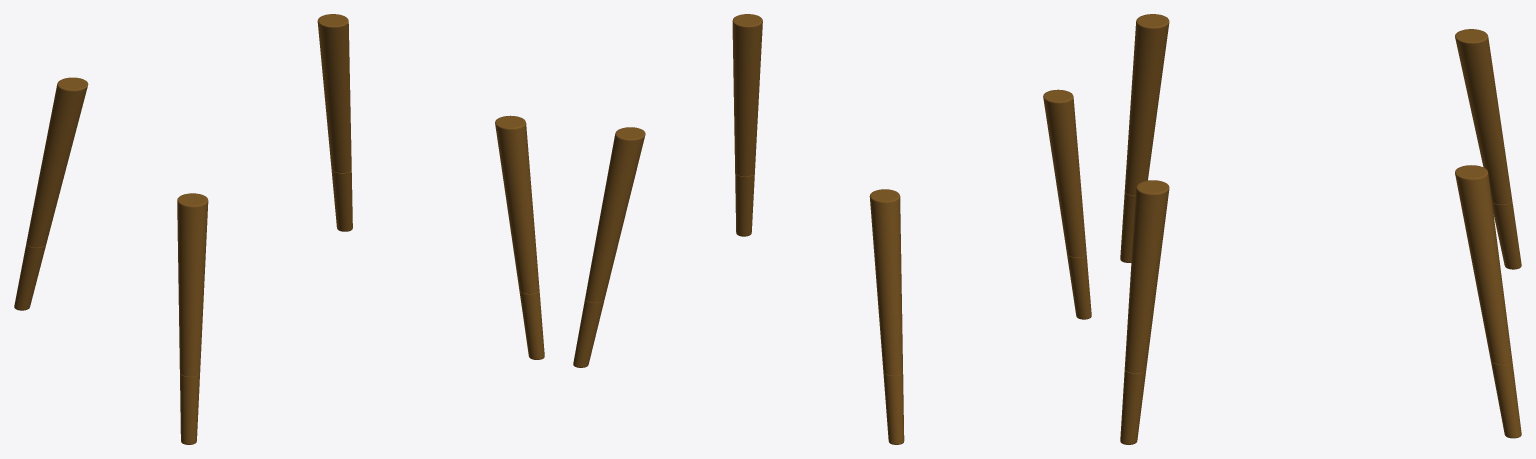
The model's file is Carera01.glb.
3 views of the same model, side by side, from view 1: azimuth 30°, elevation 25°; view 2: azimuth 150°, elevation 25°; view 3: azimuth 270°, elevation 25° (orthographic). The views are drawn at different scales.
Parts seen in each view (by area): view 1: Capri Chair - Wood Leg, Capri Chair - Metal Leg; view 2: Capri Chair - Wood Leg, Capri Chair - Metal Leg; view 3: Capri Chair - Wood Leg, Capri Chair - Metal Leg.
Part boxes in pixels (x1=…): Capri Chair - Wood Leg: x1=26, y1=14, x2=539, y2=376; Capri Chair - Metal Leg: x1=14, y1=170, x2=544, y2=444; Capri Chair - Wood Leg: x1=585, y1=14, x2=1086, y2=375; Capri Chair - Metal Leg: x1=573, y1=173, x2=1091, y2=444; Capri Chair - Wood Leg: x1=1124, y1=14, x2=1512, y2=373; Capri Chair - Metal Leg: x1=1120, y1=191, x2=1521, y2=444.
Size of the model in its own units: 0.5504 by 0.3348 by 0.4937.
